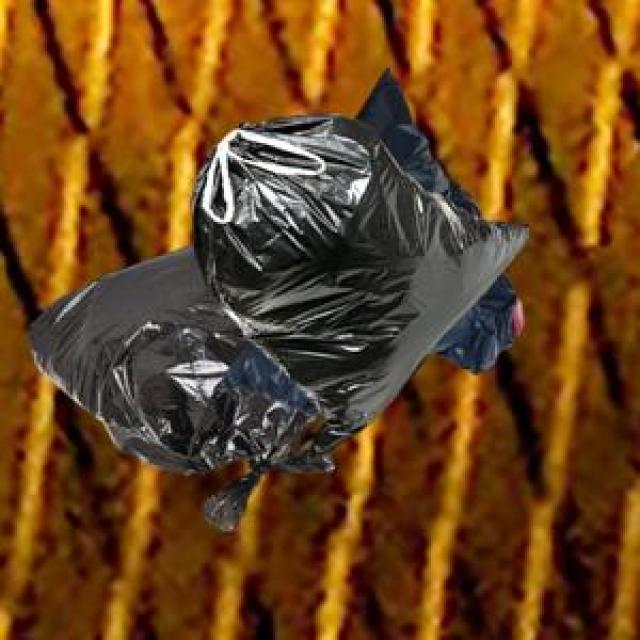waste: (31, 72, 526, 474)
